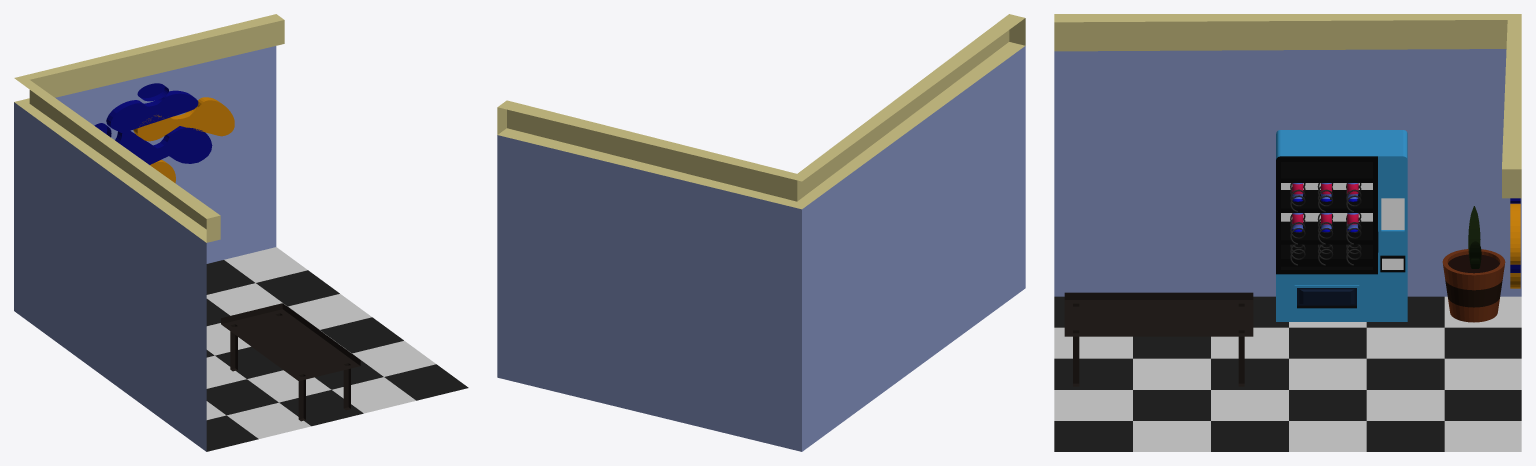
The model's file is Allanim0017.obj.
3 views of the same model, side by side, from view 1: azimuth 30°, elevation 25°; view 2: azimuth 150°, elevation 25°; view 3: azimuth 270°, elevation 25° (orthographic). The views are drawn at different scales.
Parts seen in each view (by area): view 1: ruangan_Cube.003, meja_Cube.004, logo.001_Circle.019, logo_Circle.006, logo.005_Circle.023; view 2: ruangan_Cube.003; view 3: ruangan_Cube.003, vending_machine_Cube.001, meja_Cube.004, pot_bunga_Cylinder, per_second\_Spiral.010, Plane.007, logo_Circle.006.
Part boxes in pixels (<box>): ruangan_Cube.003: <box>14,14,468,451</box>; meja_Cube.004: <box>221,303,360,421</box>; logo.001_Circle.019: <box>115,126,212,164</box>; logo_Circle.006: <box>133,97,234,141</box>; logo.005_Circle.023: <box>106,90,198,133</box>; ruangan_Cube.003: <box>497,14,1025,451</box>; ruangan_Cube.003: <box>1054,14,1521,451</box>; vending_machine_Cube.001: <box>1276,130,1407,321</box>; meja_Cube.004: <box>1064,292,1253,386</box>; pot_bunga_Cylinder: <box>1442,249,1505,322</box>; per_second\_Spiral.010: <box>1290,183,1361,265</box>; Plane.007: <box>1468,206,1481,268</box>; logo_Circle.006: <box>1510,203,1520,264</box>.
Bounding box in the file's own units: 11.73 × 9.95 × 14.9.
